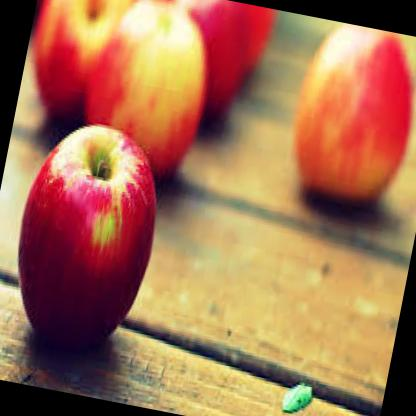apple: (1, 108, 175, 361)
